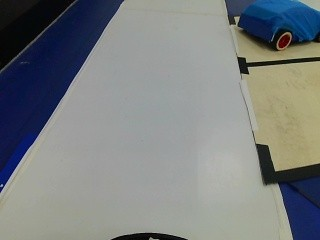car: (233, 0, 318, 57)
